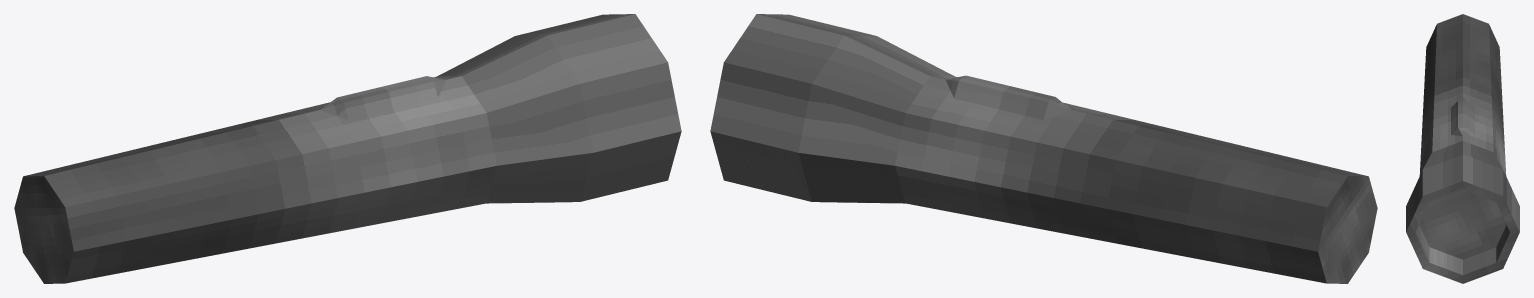
Rendered from Flashlight.glb.
The picture shows the model from 3 angles, left to right: view 1: azimuth 30°, elevation 25°; view 2: azimuth 150°, elevation 25°; view 3: azimuth 270°, elevation 25°; orthographic projection. The views are drawn at different scales.
Parts seen in each view (by area): view 1: Cylinder; view 2: Cylinder; view 3: Cylinder.
Boxes of the visible parts, x1=… form: Cylinder: x1=14, y1=14, x2=681, y2=283; Cylinder: x1=710, y1=14, x2=1377, y2=283; Cylinder: x1=1406, y1=14, x2=1519, y2=283.
Size of the model in its own units: 0.9083 by 0.2453 by 0.2453.
Materials: 1 (1 with a texture image).
